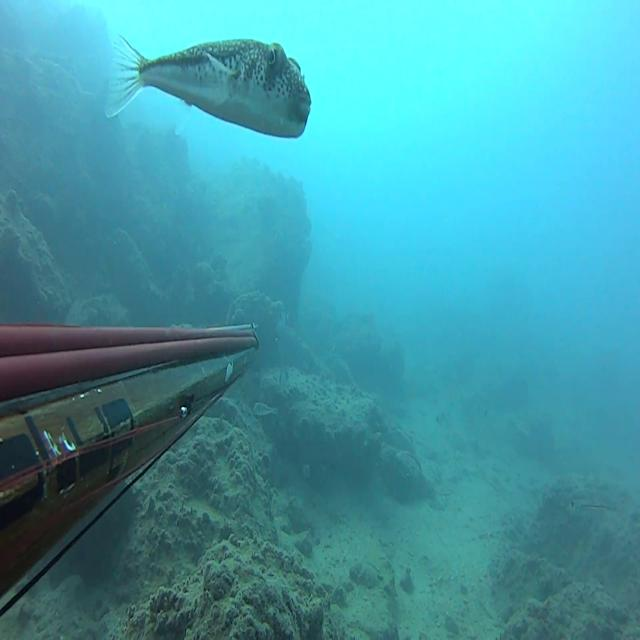Balon Baligi: (103, 31, 312, 141), (568, 498, 620, 517), (254, 401, 278, 417)
